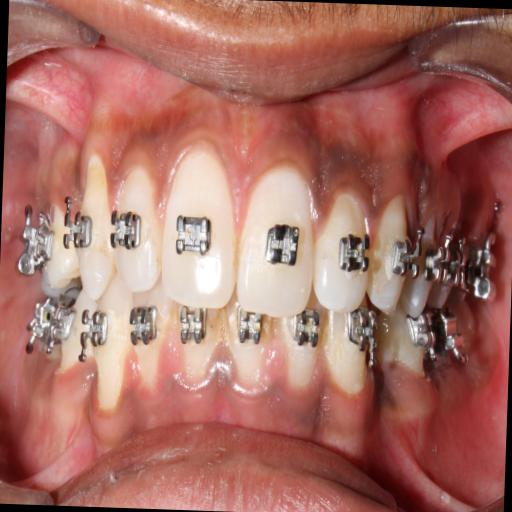correct_brace: (170, 211, 216, 262), (263, 217, 303, 271), (335, 228, 371, 277), (108, 204, 142, 253), (60, 206, 94, 254), (390, 236, 422, 281)
incorrect_brace: (312, 193, 372, 311), (112, 160, 162, 292)
